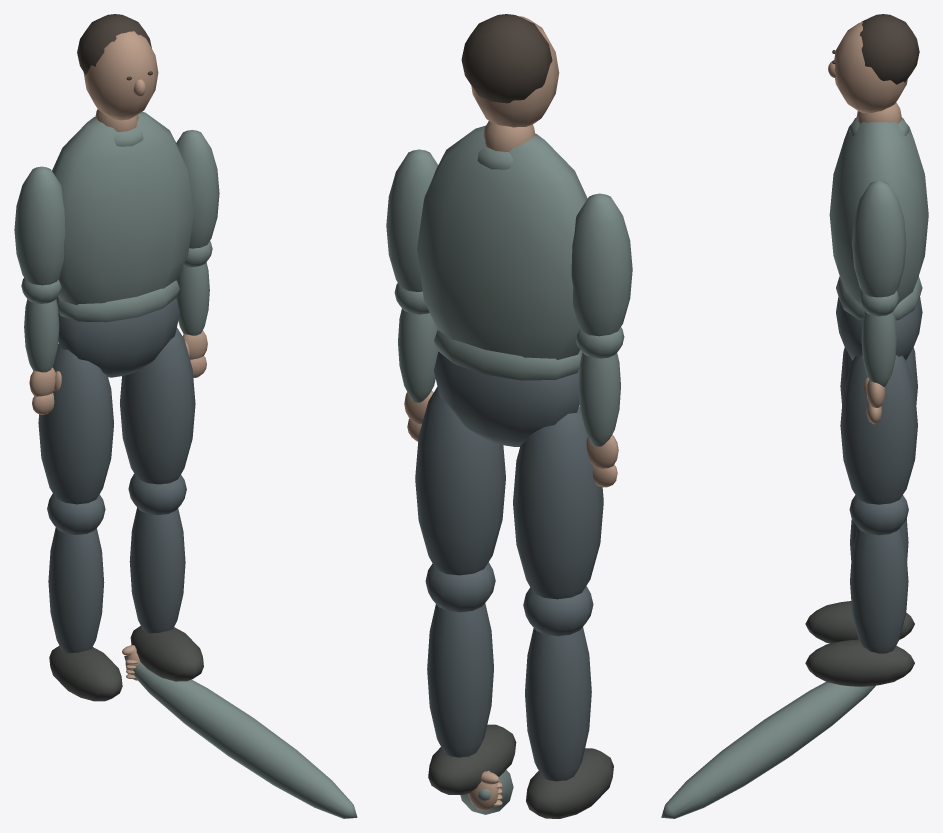
Rendered from resident.glb.
The picture shows the model from 3 angles, left to right: view 1: azimuth 30°, elevation 25°; view 2: azimuth 150°, elevation 25°; view 3: azimuth 270°, elevation 25°; orthographic projection. The views are drawn at different scales.
Visible parts, largest first — view 1: shirt, grip_sleeve, left_thigh, right_thigh, right_calf, left_calf, hips, left_sleeve, face, right_sleeve, left_shoe, right_shoe (+7 smaller); view 2: shirt, left_thigh, right_thigh, left_calf, right_calf, hips, left_sleeve, hair, right_sleeve, left_shoe, right_shoe, shirt_hem (+13 smaller); view 3: shirt, grip_sleeve, right_thigh, right_calf, right_sleeve, right_shoe, face, hair, right_forearm, hips, left_shoe, right_knee_cloth (+4 smaller).
Boxes of the visible parts, x1,y1,x2,y2 form: shirt: [52, 111, 193, 304]; grip_sleeve: [124, 656, 357, 818]; left_thigh: [38, 343, 113, 504]; right_thigh: [120, 328, 195, 484]; right_calf: [129, 507, 185, 633]; left_calf: [48, 527, 104, 653]; hips: [58, 298, 179, 377]; left_sleeve: [14, 166, 65, 285]; face: [83, 31, 158, 120]; right_sleeve: [176, 130, 219, 248]; left_shoe: [49, 645, 122, 701]; right_shoe: [130, 626, 203, 681]; shirt: [417, 125, 587, 359]; left_thigh: [513, 406, 603, 599]; right_thigh: [415, 387, 505, 575]; left_calf: [525, 627, 591, 781]; right_calf: [427, 603, 493, 757]; hips: [434, 351, 579, 446]; left_sleeve: [571, 193, 632, 336]; hair: [461, 14, 552, 103]; right_sleeve: [386, 149, 437, 291]; left_shoe: [526, 748, 613, 818]; right_shoe: [428, 724, 516, 794]; shirt_hem: [434, 329, 582, 380]; shirt: [829, 122, 928, 304]; grip_sleeve: [661, 682, 875, 818]; right_thigh: [840, 355, 917, 504]; right_calf: [850, 527, 908, 653]; right_sleeve: [852, 181, 906, 297]; right_shoe: [805, 639, 914, 686]; face: [834, 21, 907, 113]; hair: [860, 14, 919, 84]; right_forearm: [861, 311, 896, 386]; hips: [836, 297, 922, 360]; left_shoe: [805, 601, 914, 643]; right_knee_cloth: [849, 495, 908, 535].
Size of the model in its own units: 0.6355 by 1.98 by 0.6479.
